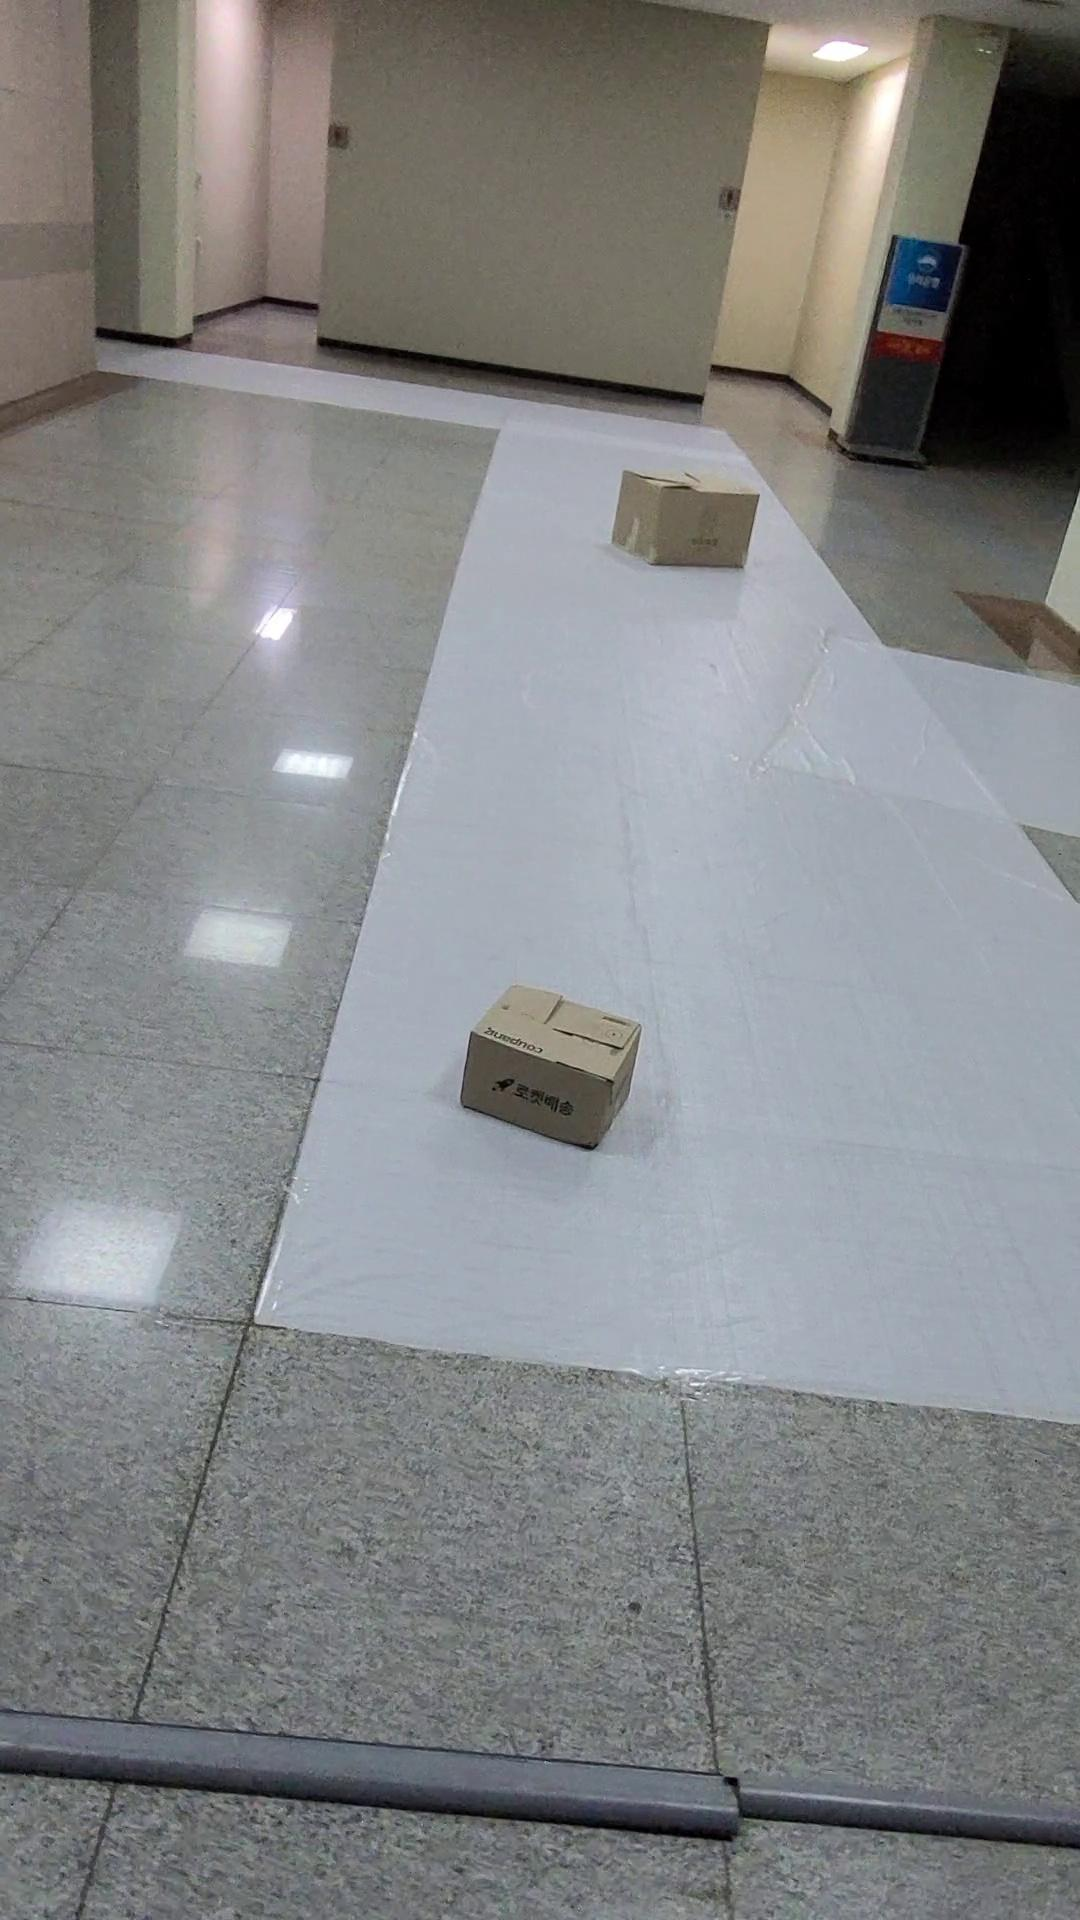Box: (454, 971, 642, 1156), (607, 448, 777, 589)
